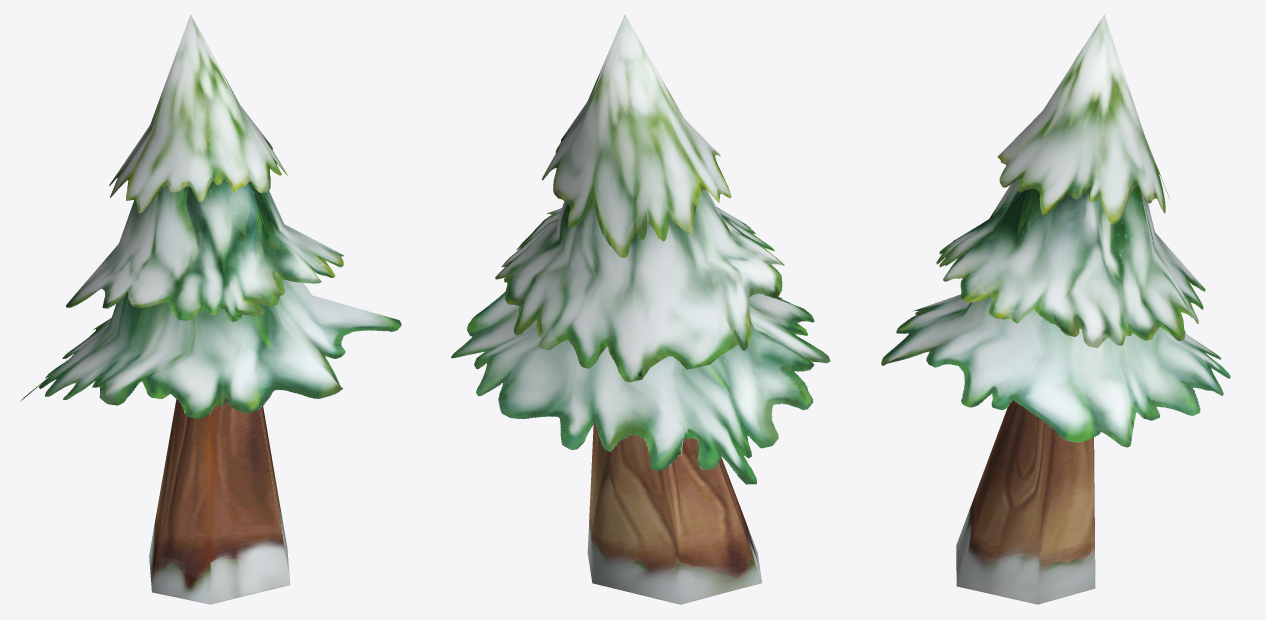
Rendered from SM_tree_05.fbx.
The picture shows the model from 3 angles, left to right: view 1: azimuth 30°, elevation 25°; view 2: azimuth 150°, elevation 25°; view 3: azimuth 270°, elevation 25°; orthographic projection. The views are drawn at different scales.
Visible parts, largest first — view 1: SM_tree_05; view 2: SM_tree_05; view 3: SM_tree_05.
Boxes of the visible parts, x1,y1,x2,y2 form: SM_tree_05: [20, 14, 401, 604]; SM_tree_05: [451, 14, 830, 604]; SM_tree_05: [881, 14, 1230, 604].
Size of the model in its own units: 1.61 by 2.55 by 1.55.
